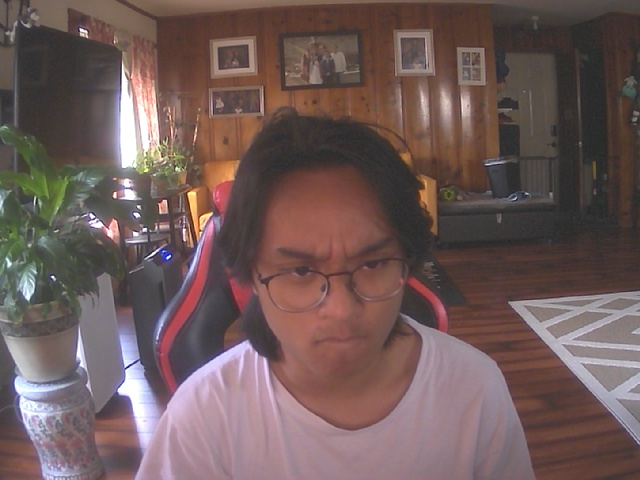anger: (248, 140, 420, 385)
